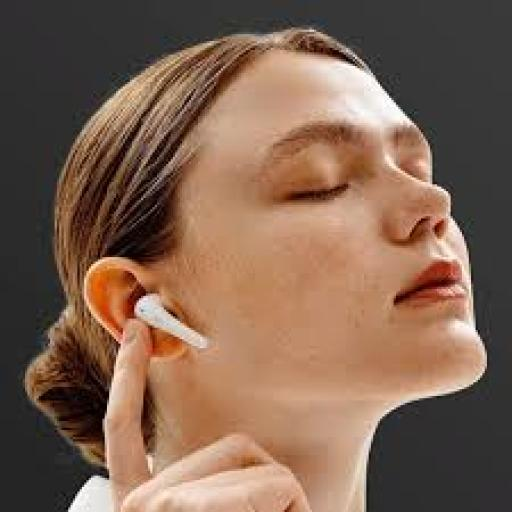earphone: (128, 292, 214, 359)
